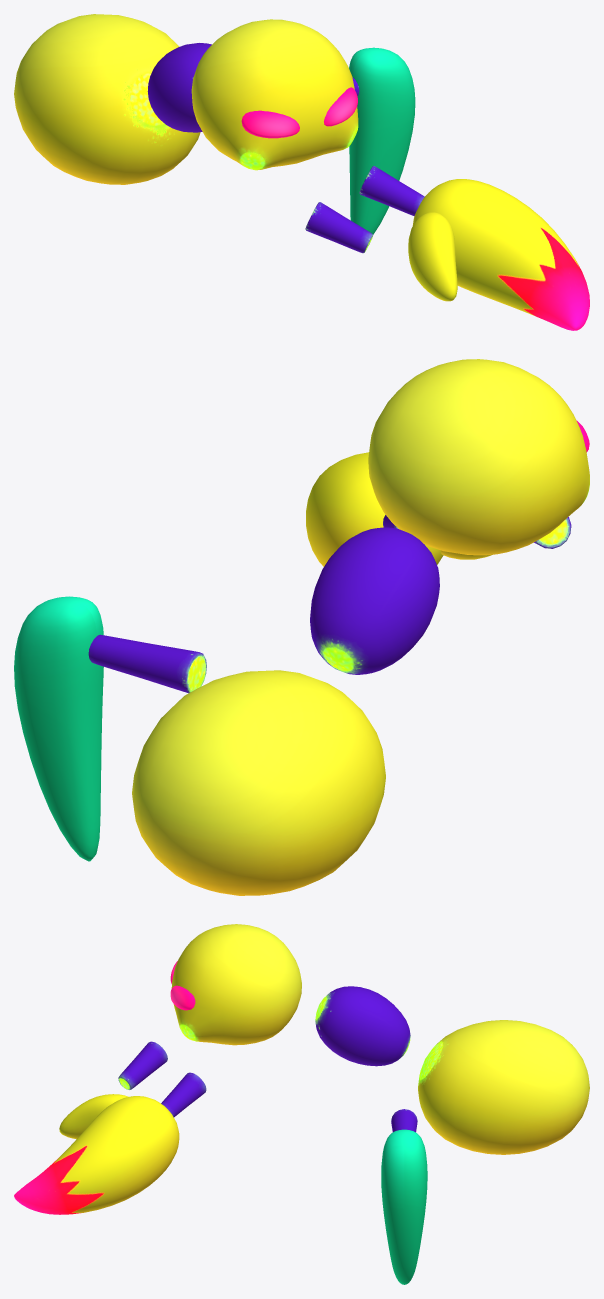
File: Xormite_Melee_Bits.fbx
The picture shows the model from 3 angles, top to bottom: view 1: azimuth 30°, elevation 25°; view 2: azimuth 150°, elevation 25°; view 3: azimuth 270°, elevation 25°; orthographic projection. The views are drawn at different scales.
Visible parts, largest first — view 1: Xormite_Melee_Body, Xormite_Melee_Head, Xormite_Melee_Claw, Xormite_Melee_Foot, Xormite_Melee_Mid, Xormite_Melee_Arm; view 2: Xormite_Melee_Body, Xormite_Melee_Head, Xormite_Melee_Foot, Xormite_Melee_Mid, Xormite_Melee_Claw, Xormite_Melee_Legs; view 3: Xormite_Melee_Body, Xormite_Melee_Claw, Xormite_Melee_Head, Xormite_Melee_Mid, Xormite_Melee_Foot, Xormite_Melee_Arm, Xormite_Melee_Legs.
Boxes of the visible parts, x1,y1,x2,y2 form: Xormite_Melee_Body: (14, 14, 200, 184); Xormite_Melee_Head: (191, 19, 358, 170); Xormite_Melee_Claw: (359, 166, 589, 330); Xormite_Melee_Foot: (349, 47, 415, 234); Xormite_Melee_Mid: (147, 43, 211, 132); Xormite_Melee_Arm: (305, 202, 372, 253); Xormite_Melee_Body: (132, 670, 385, 895); Xormite_Melee_Head: (368, 359, 589, 555); Xormite_Melee_Foot: (14, 596, 103, 861); Xormite_Melee_Mid: (310, 527, 439, 674); Xormite_Melee_Claw: (306, 452, 492, 566); Xormite_Melee_Legs: (88, 634, 206, 693); Xormite_Melee_Body: (418, 1020, 589, 1154); Xormite_Melee_Claw: (14, 1072, 206, 1214); Xormite_Melee_Head: (170, 924, 301, 1045); Xormite_Melee_Mid: (315, 986, 410, 1066); Xormite_Melee_Foot: (381, 1129, 427, 1284); Xormite_Melee_Arm: (118, 1041, 167, 1089); Xormite_Melee_Legs: (391, 1109, 417, 1132).
Size of the model in its own units: 214 by 219 by 411.
